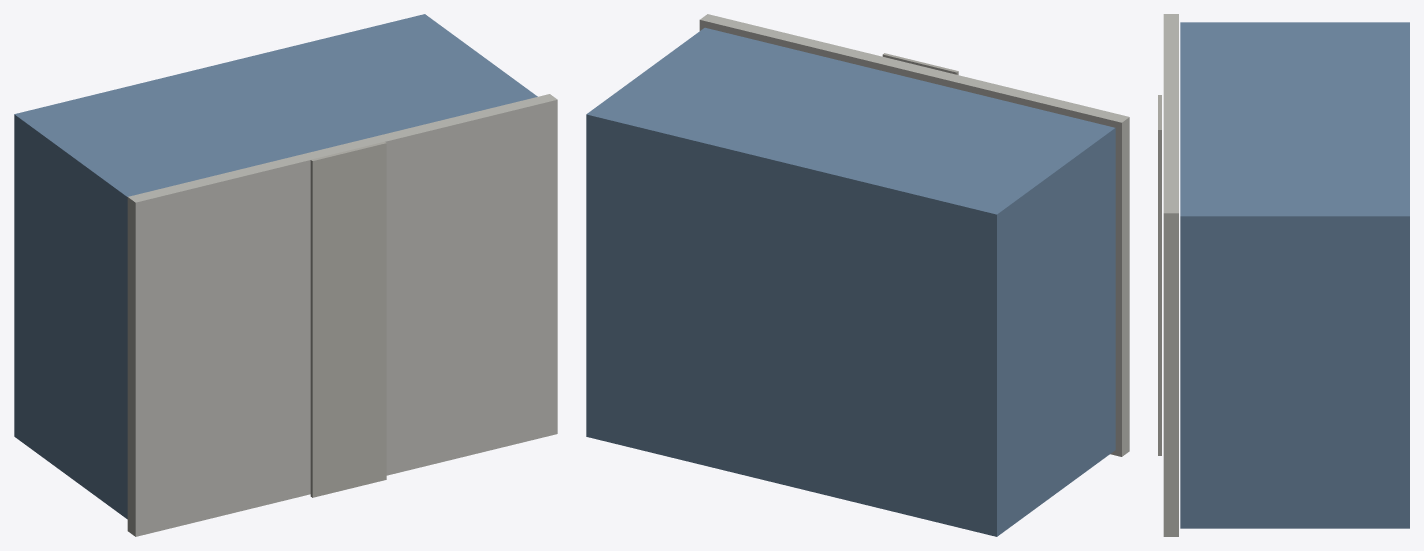
3 renders of one model, left to right at view 1: azimuth 30°, elevation 25°; view 2: azimuth 150°, elevation 25°; view 3: azimuth 270°, elevation 25°, orthographic. The views are drawn at different scales.
Visible parts, largest first — view 1: PR-010_001_CardboardFoldedTop_paper_side, PR-010_000_KraftBoxShell_blue, PR-010_002_PackingTape_aged_white; view 2: PR-010_000_KraftBoxShell_blue, PR-010_001_CardboardFoldedTop_paper_side; view 3: PR-010_000_KraftBoxShell_blue, PR-010_001_CardboardFoldedTop_paper_side, PR-010_002_PackingTape_aged_white.
Boxes of the visible parts, x1,y1,x2,y2 form: PR-010_001_CardboardFoldedTop_paper_side: (127, 94, 557, 536); PR-010_000_KraftBoxShell_blue: (14, 14, 537, 519); PR-010_002_PackingTape_aged_white: (310, 141, 386, 497); PR-010_000_KraftBoxShell_blue: (586, 27, 1115, 536); PR-010_001_CardboardFoldedTop_paper_side: (699, 14, 1129, 456); PR-010_000_KraftBoxShell_blue: (1180, 22, 1409, 528); PR-010_001_CardboardFoldedTop_paper_side: (1163, 14, 1178, 536); PR-010_002_PackingTape_aged_white: (1158, 95, 1161, 455).
Bounding box in the file's own units: 0.37 × 0.282 × 0.1975.
